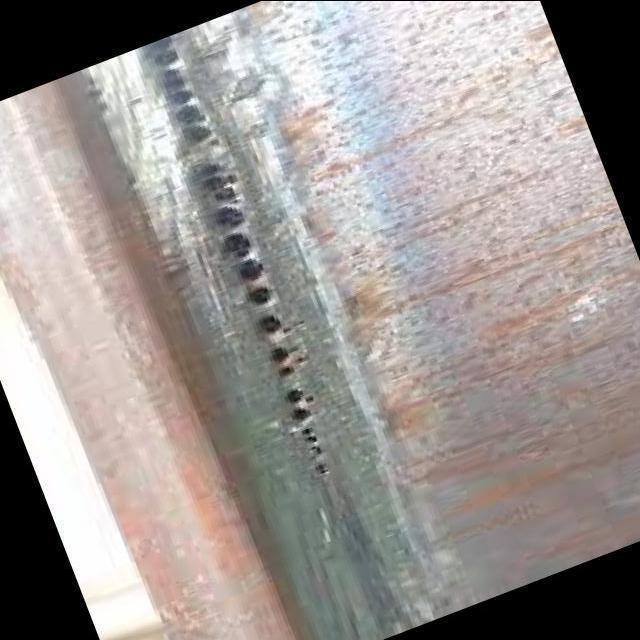defect: (139, 36, 305, 378), (280, 380, 336, 480)
